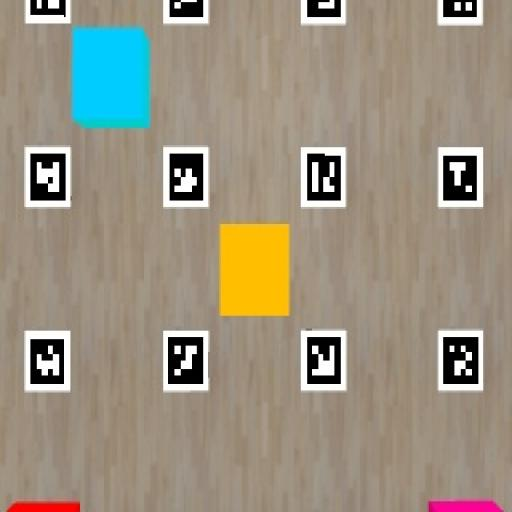car: (71, 26, 150, 127), (429, 500, 503, 511)
fire: (220, 224, 289, 315), (7, 502, 79, 511)
